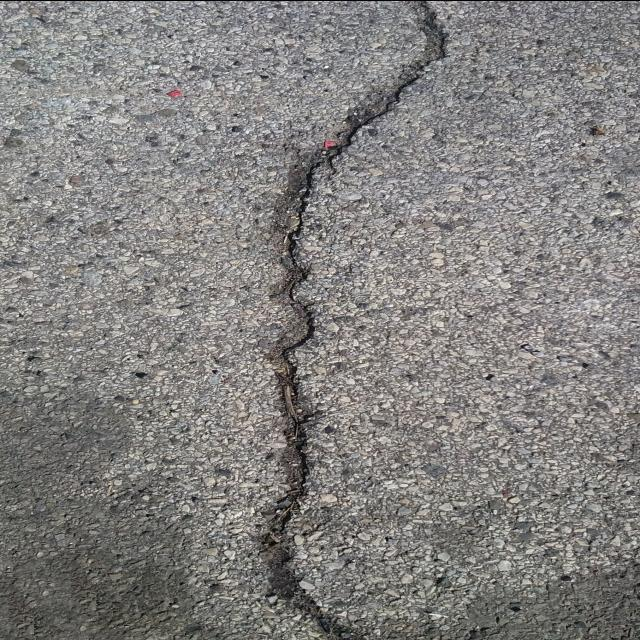Crack: (259, 0, 450, 640)
